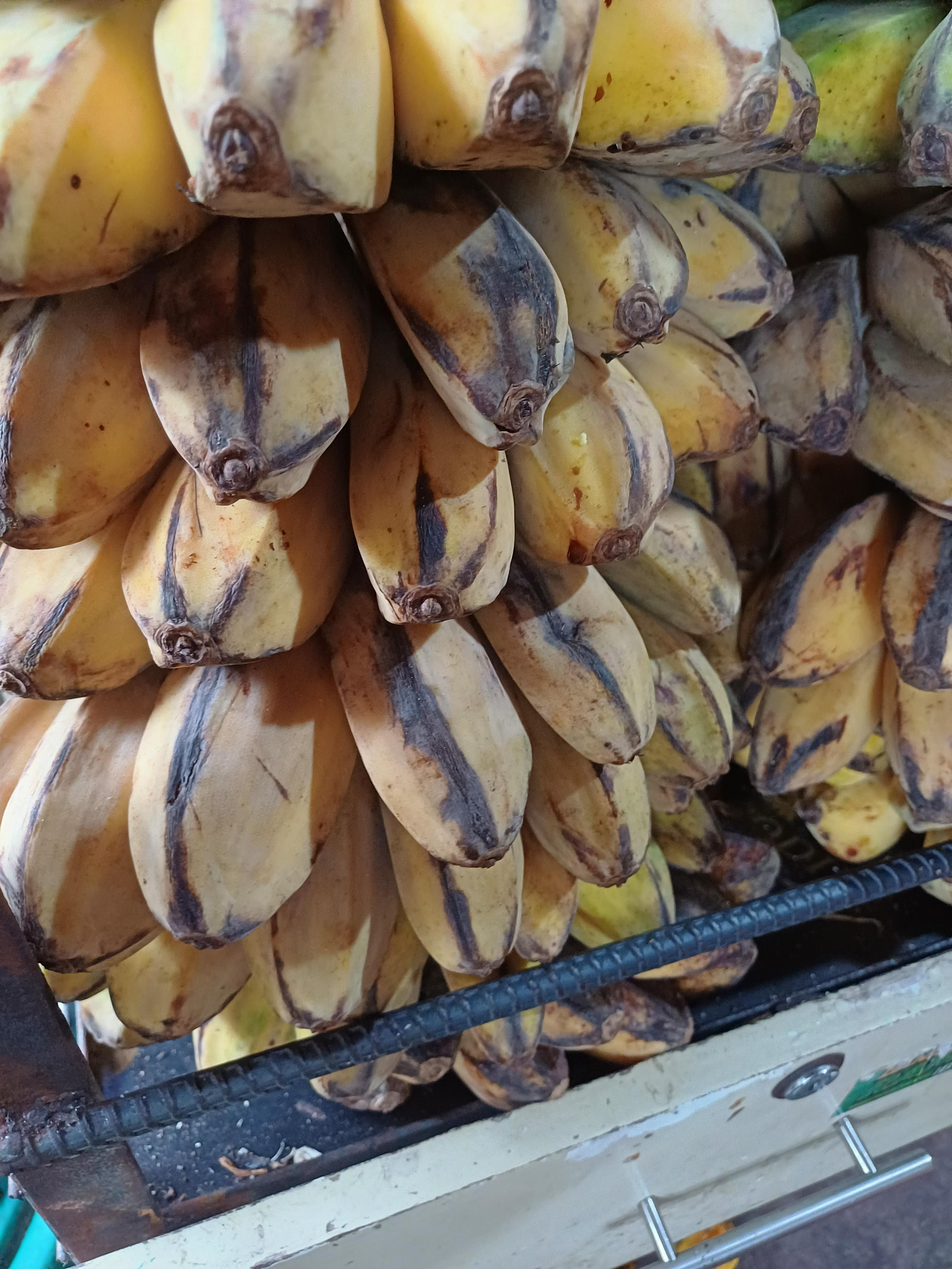ripe: (0, 154, 792, 700), (0, 495, 751, 1065), (0, 0, 818, 298), (730, 167, 952, 520), (741, 493, 952, 863), (313, 940, 757, 1112)
